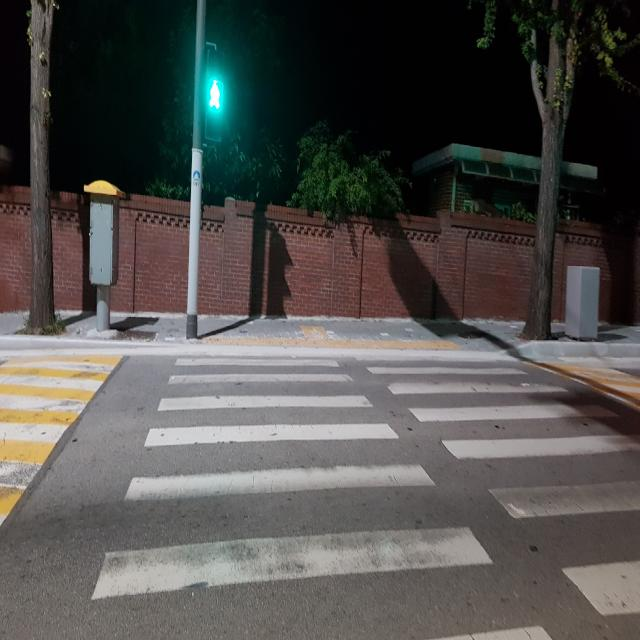초록불: (200, 44, 230, 144)
횡단보도: (89, 355, 638, 637)
